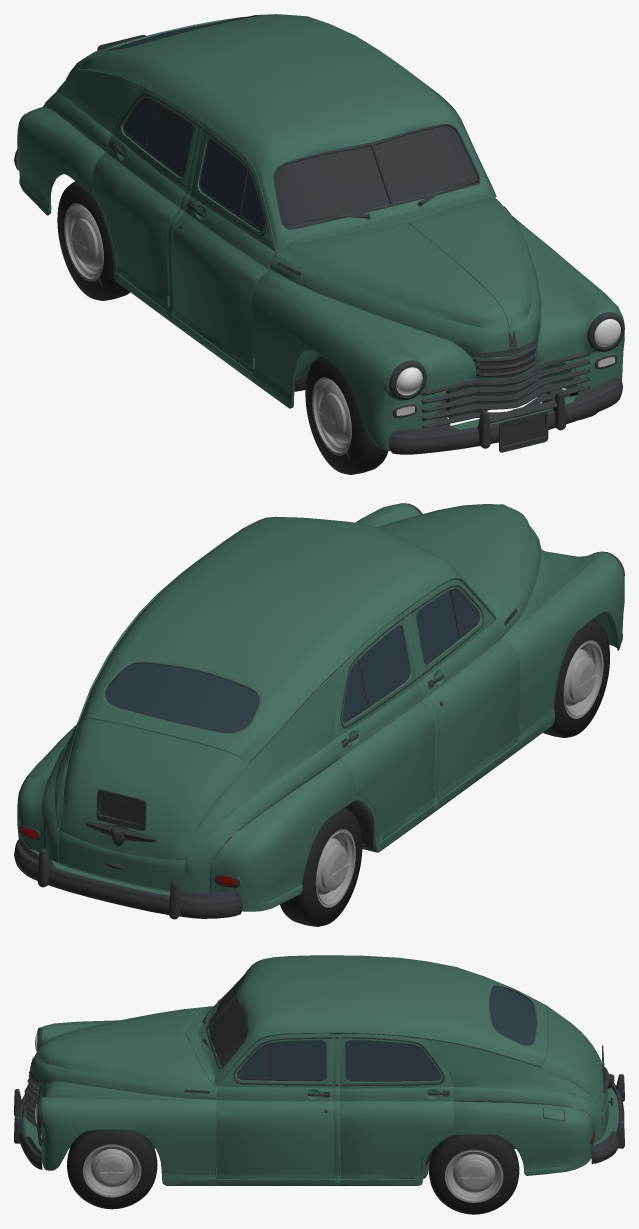
The model's file is gazm20.glb.
The picture shows the model from 3 angles, top to bottom: view 1: azimuth 30°, elevation 25°; view 2: azimuth 150°, elevation 25°; view 3: azimuth 270°, elevation 25°; orthographic projection. The views are drawn at different scales.
Parts seen in each view (by area): view 1: chassisbody, chassis_trim, glass, wheel_fr, wheel_rr, interior, headlights; view 2: chassisbody, glass, chassis_trim, wheel_rr, wheel_fr, interior; view 3: chassisbody, glass, chassis_trim, wheel_rl, wheel_fl, interior.
Part boxes in pixels (bbox=[...]): chassisbody: bbox=[17, 14, 624, 450]; chassis_trim: bbox=[14, 35, 624, 454]; glass: bbox=[111, 18, 264, 228]; wheel_fr: bbox=[305, 356, 388, 474]; wheel_rr: bbox=[57, 181, 130, 300]; interior: bbox=[43, 15, 618, 426]; headlights: bbox=[396, 319, 620, 415]; chassisbody: bbox=[17, 503, 624, 911]; glass: bbox=[106, 590, 477, 732]; chassis_trim: bbox=[14, 503, 624, 919]; wheel_rr: bbox=[280, 807, 362, 926]; wheel_fr: bbox=[543, 619, 609, 737]; interior: bbox=[21, 588, 516, 892]; chassisbody: bbox=[22, 955, 618, 1185]; glass: bbox=[238, 986, 536, 1080]; chassis_trim: bbox=[14, 973, 624, 1169]; wheel_rl: bbox=[429, 1134, 519, 1214]; wheel_fl: bbox=[67, 1129, 157, 1209]; interior: bbox=[23, 970, 614, 1178].
Size of the model in its own units: 1.84 by 1.74 by 4.96.
